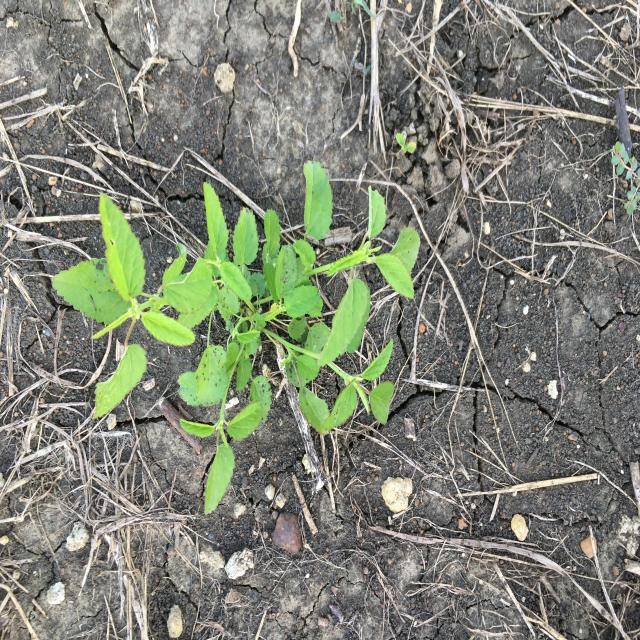PricklySida: (49, 159, 423, 516)
SpottedSpurge: (609, 140, 640, 216)
